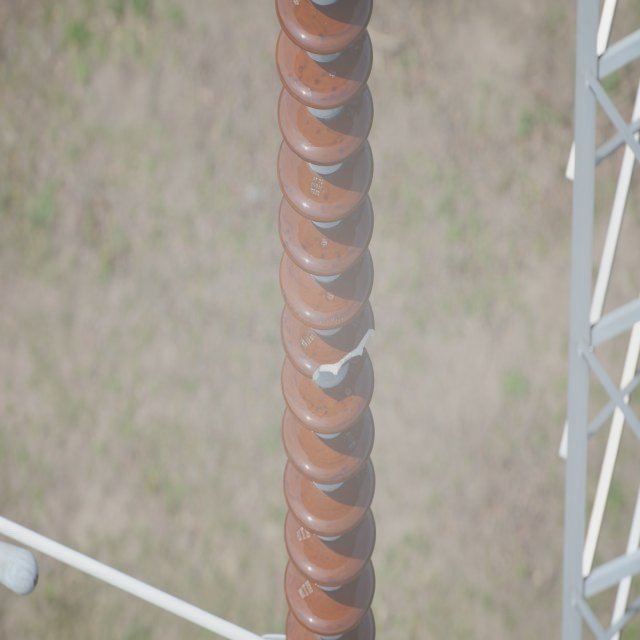broken: (310, 323, 375, 386)
insulator: (274, 0, 379, 638)
